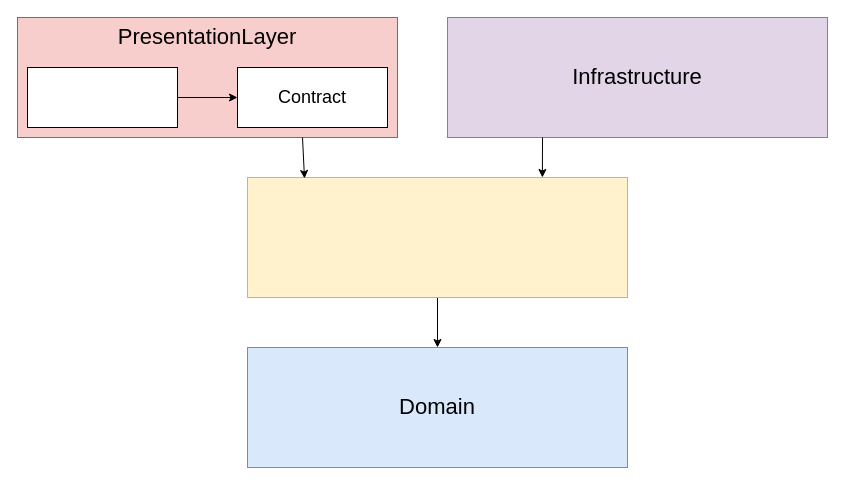
This 845x485 diagram has some shape labels left out. The centre of each missing label's shape, as x and y in pixels:
API: point (102, 97)
Application: point (437, 237)
